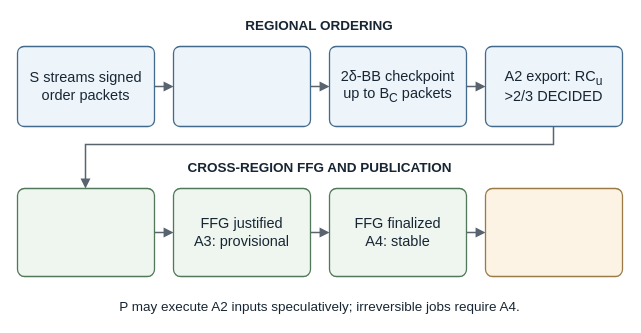
Image size: 641x333. Some labels were removed from this diagram. Each missing label, with the centre of its shape:
"Global candidate complete data + availability AC" goes at point 85,232.
"Local LMD-GHOST speculative head" goes at point 241,86.
"P job → native output → DA / L1 A5: settled" goes at point 553,232.
